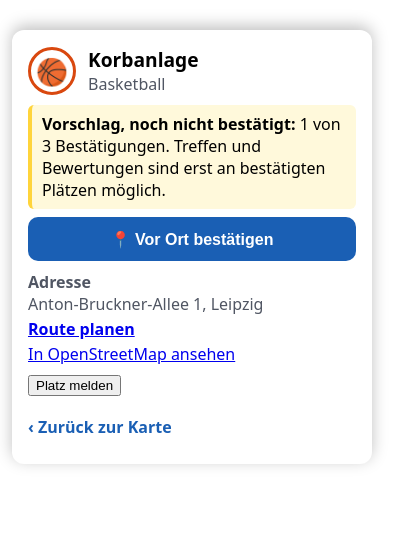
Scenario: PlaceDetail › asks for a login when a guest taps confirm, and shows a server error when too far away
Click the button "📍 Vor Ort bestätigen".
click(192, 239)  # box x1=28 y1=217 x2=356 y2=261
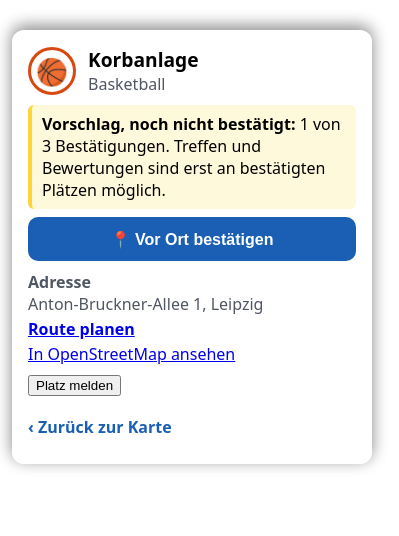
Click the button "📍 Vor Ort bestätigen".
click(192, 239)  # box x1=28 y1=217 x2=356 y2=261
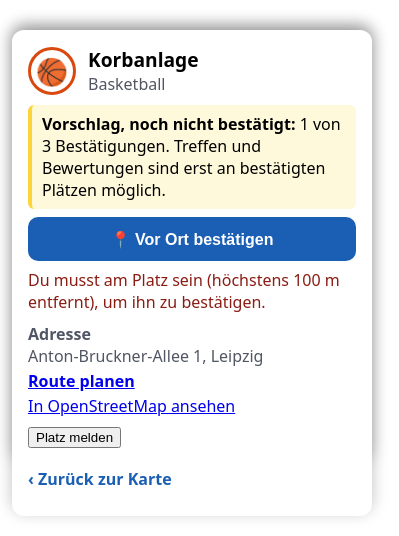
Check: the text "höchstens 100 m entfernt" is shown, box x1=28 y1=269 x2=340 y2=313
